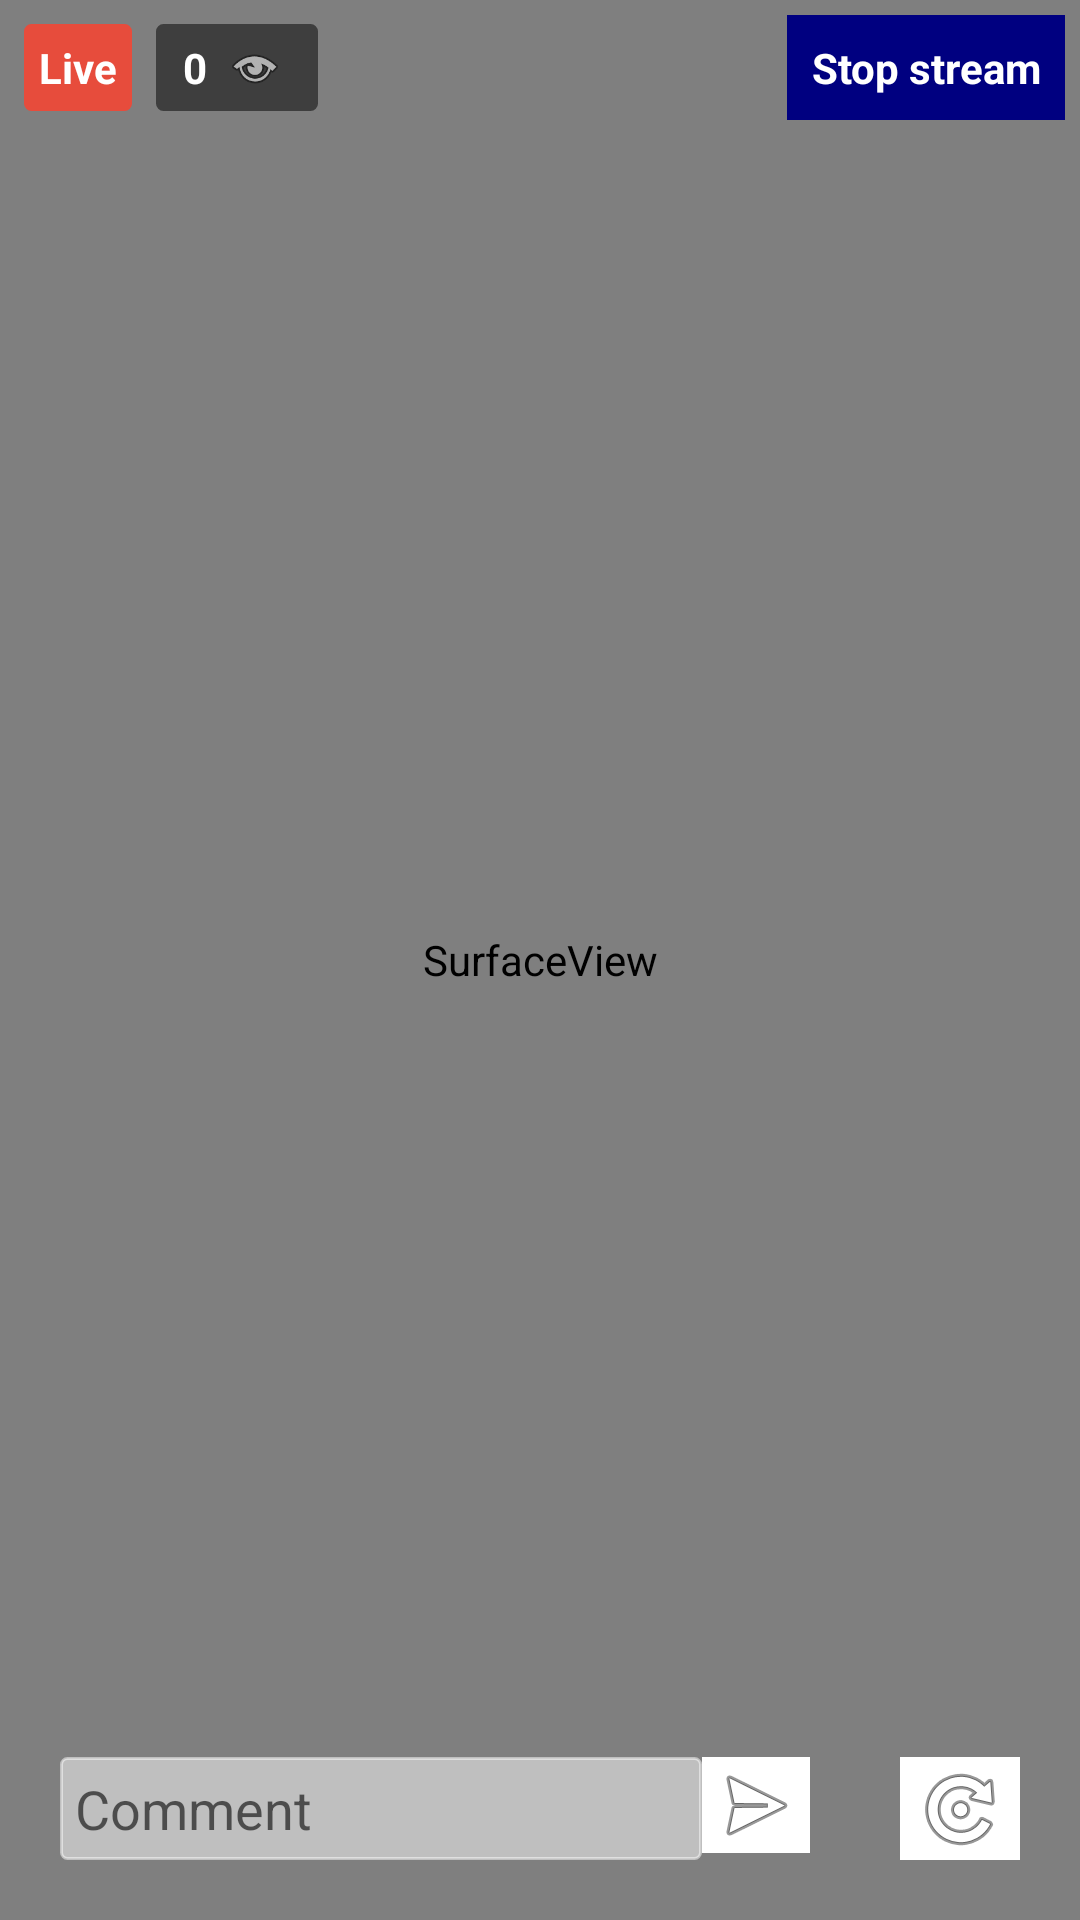

Where to tap for icons on this 1080 x 1920 app screen, as (x,y):
rotate: (960,1808)
send: (756,1805)
